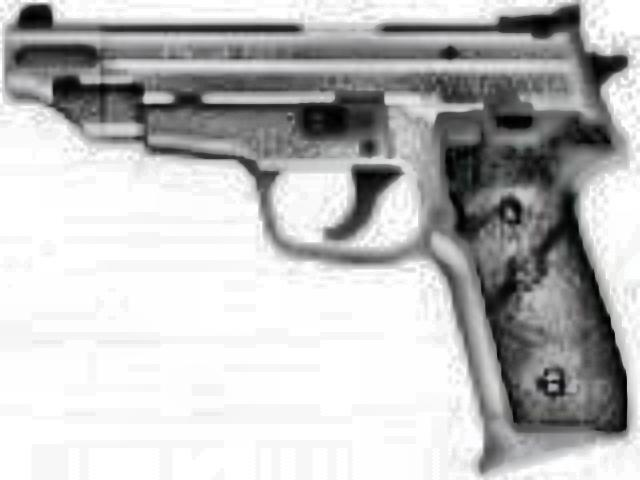pistol: (8, 0, 628, 464)
